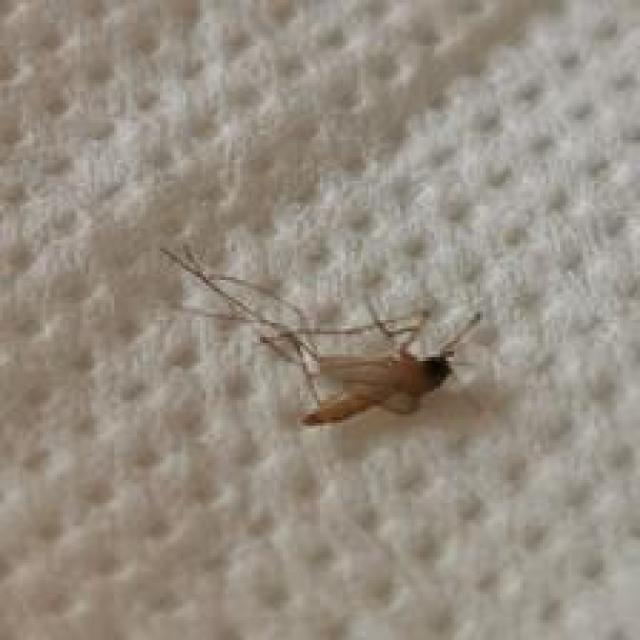Culex: (159, 241, 487, 430)
